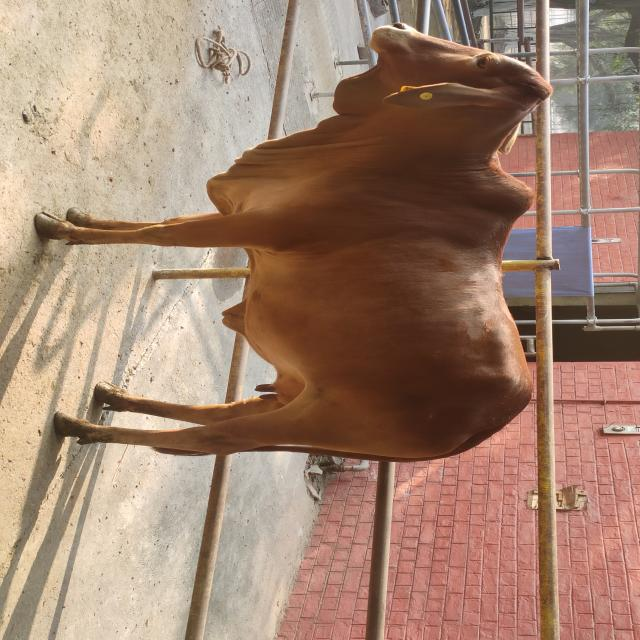cow: (33, 21, 553, 463)
hump: (495, 162, 543, 235)
